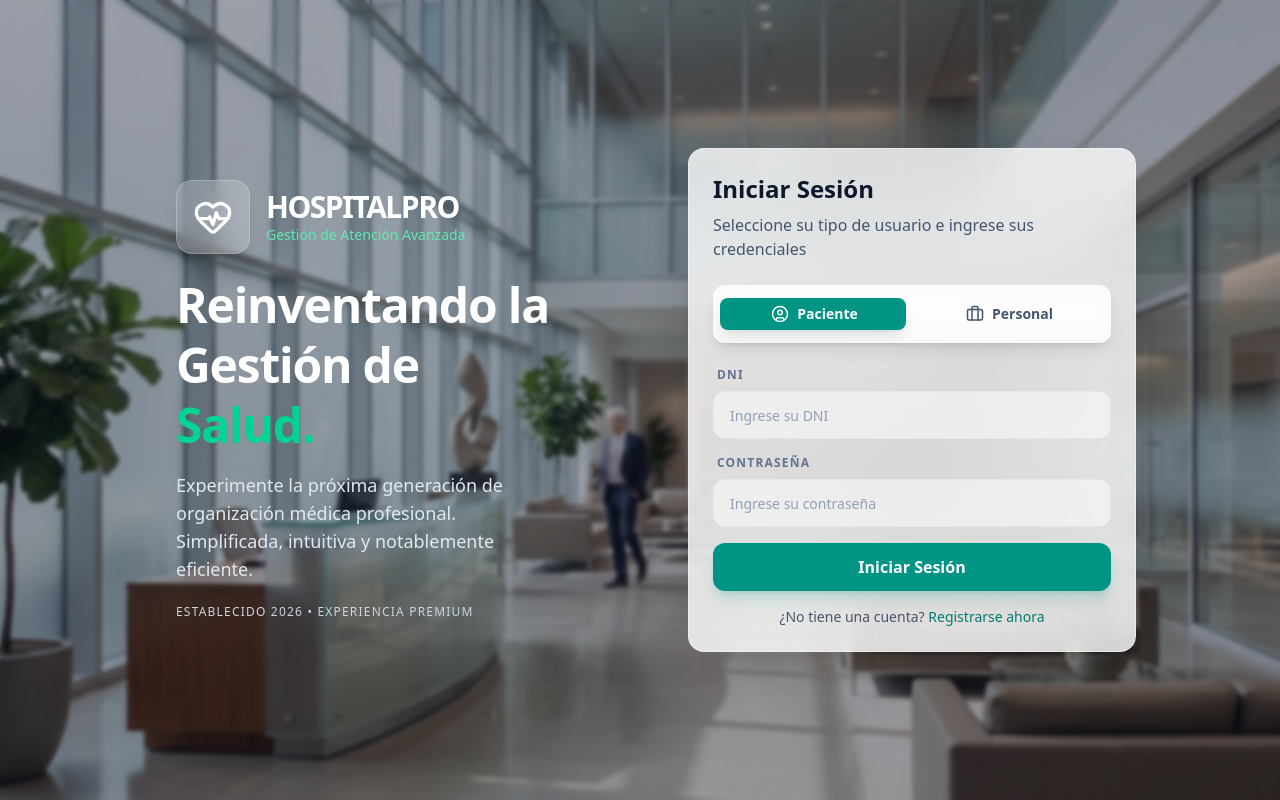
Test: Login Dual Mode › switches back to Patient mode when clicking Paciente tab
The width and height of the screenshot is (1280, 800).
// First switch to Staff
Click the button "Personal": (1010, 314) [915,292,1104,336]
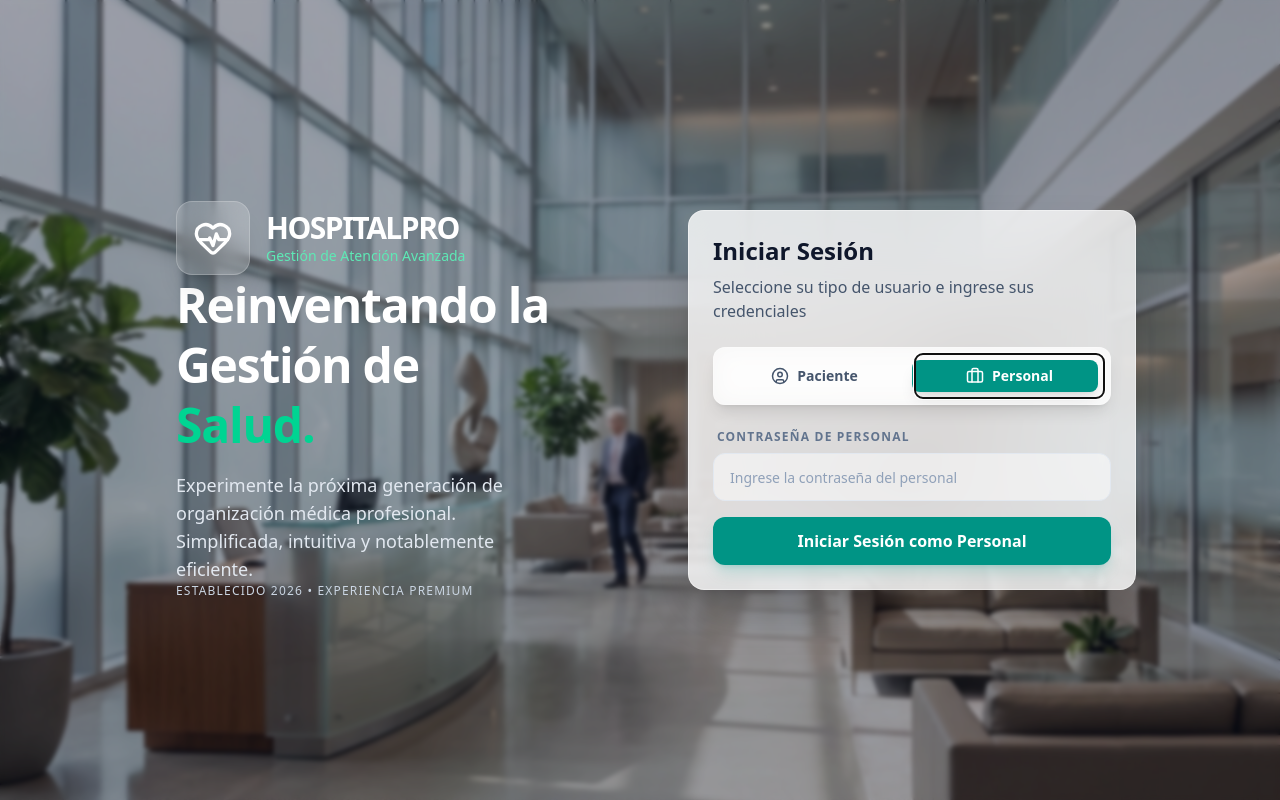
Expected: the label labelled "DNI" is gone
// Then switch back to Patient
Click the button "Paciente": (814, 376) [720,354,909,398]
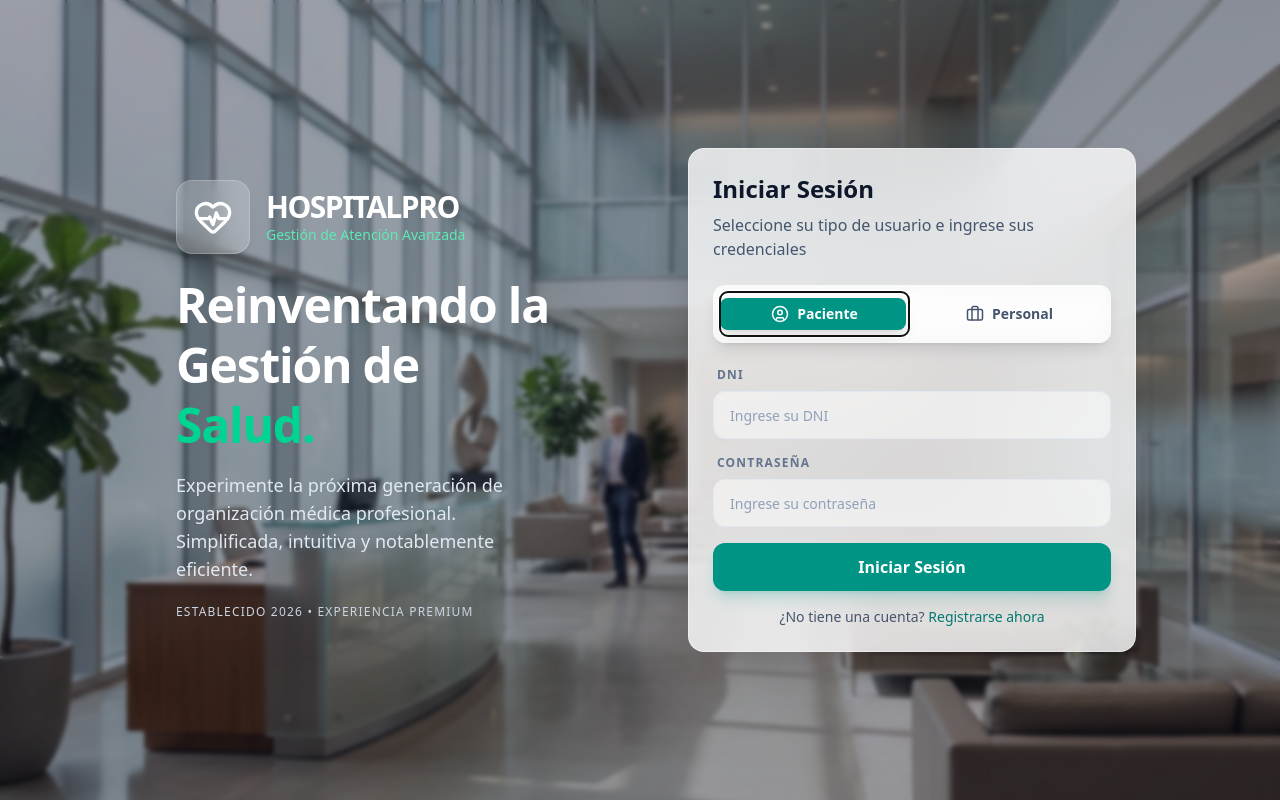
Expected: the field labelled "DNI" is shown, [713,391,1111,439]
